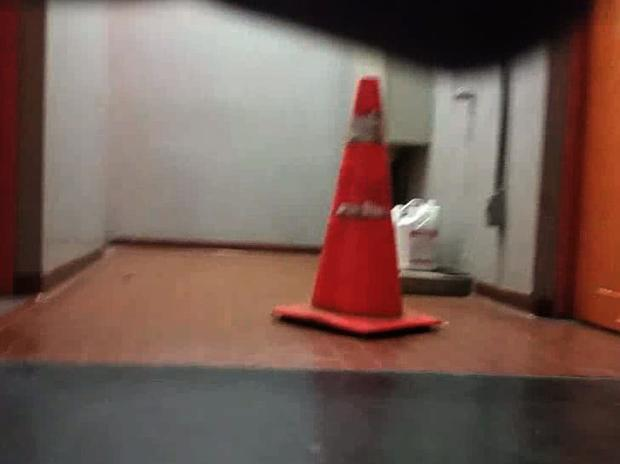0 cone: (271, 76, 441, 338)
